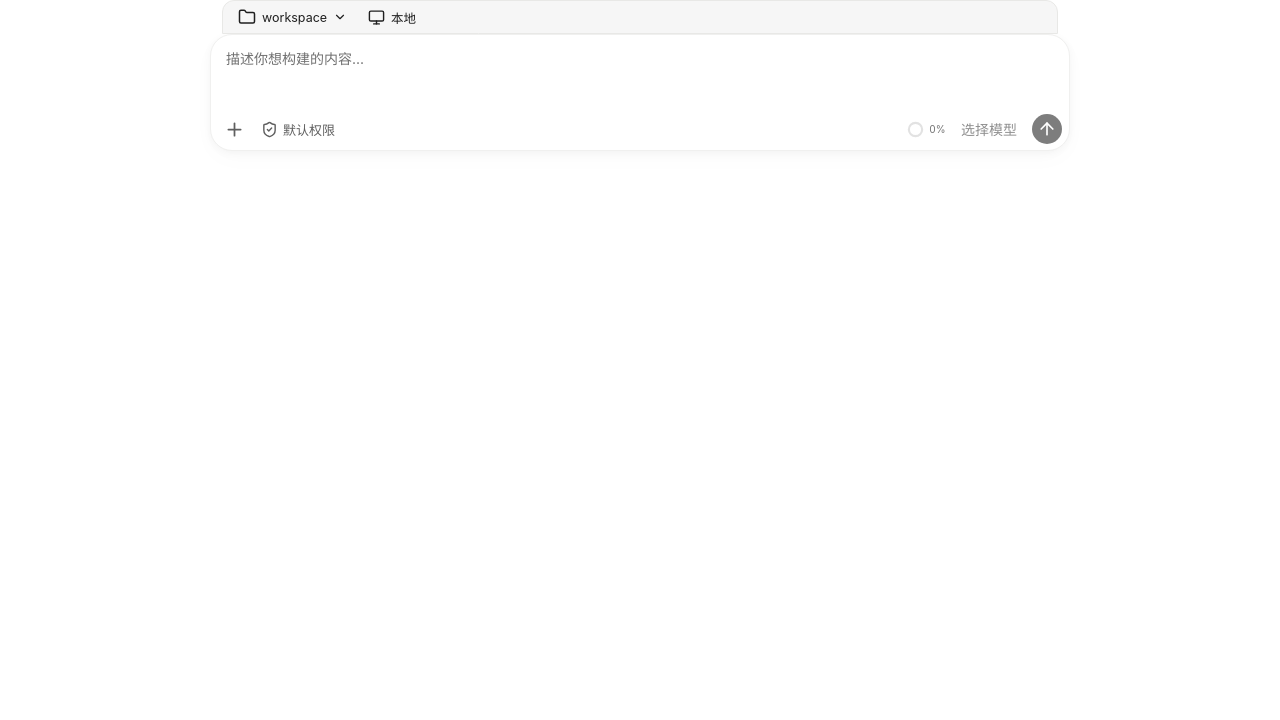
ChatComposer › 无 SDK 配置时保留模型错误入口并禁用依赖会话的操作
Click the button with aria-label "模型与思考强度" at (989, 129), box [951, 114, 1027, 144]
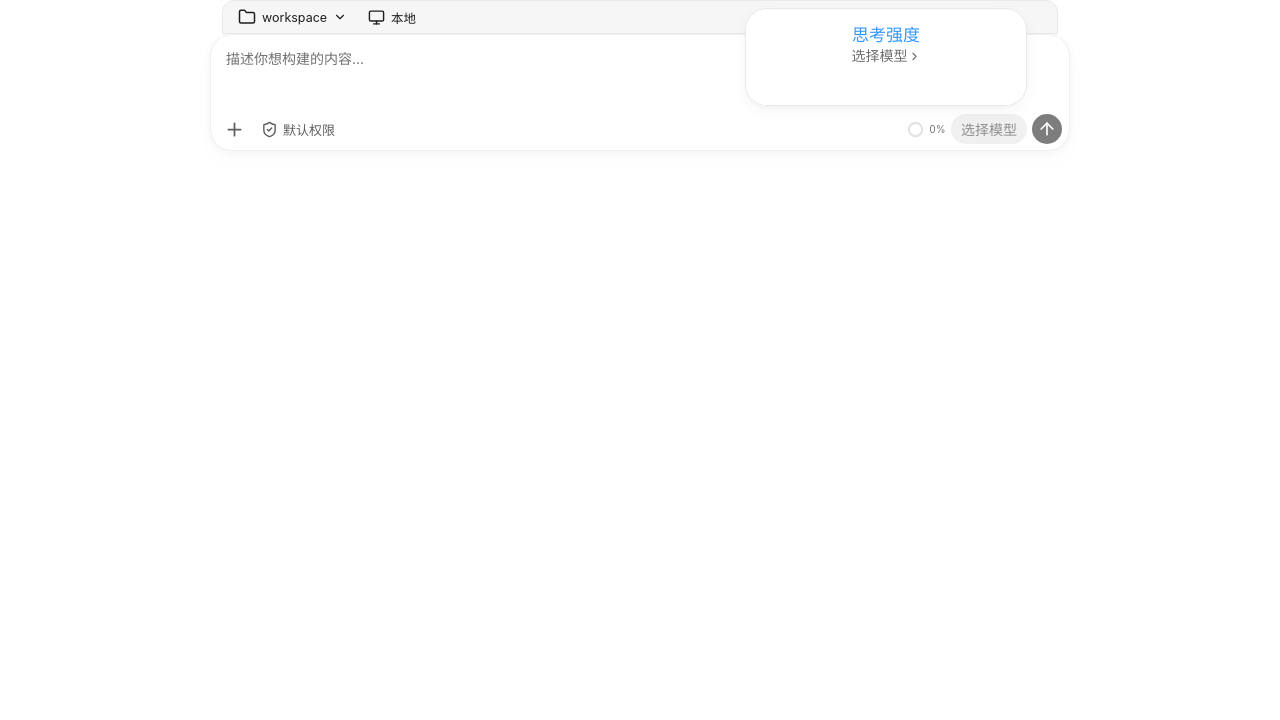
Click the button "思考强度 选择模型" at (886, 44), box [818, 19, 954, 70]
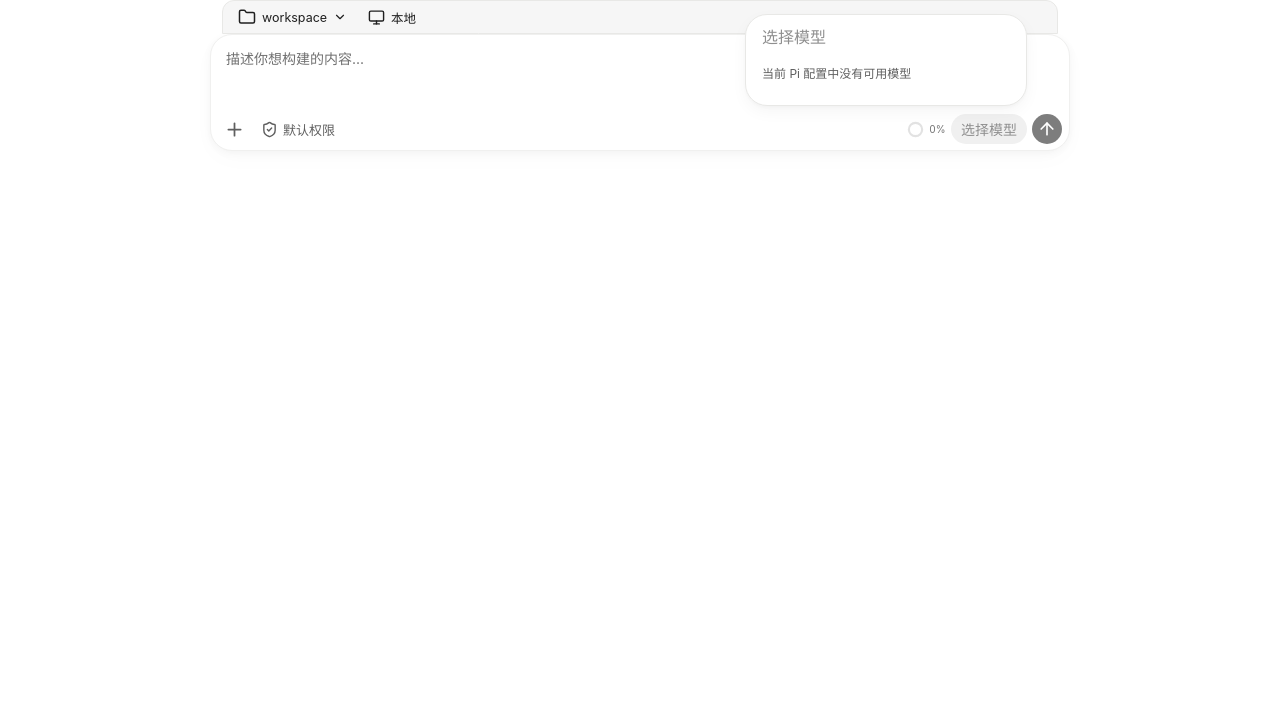
Check: the button with aria-label "选择工具权限" is enabled, box [254, 114, 344, 144]
Check: the text "当前 Pi 配置中没有可用模型" is shown, box [762, 66, 911, 81]
